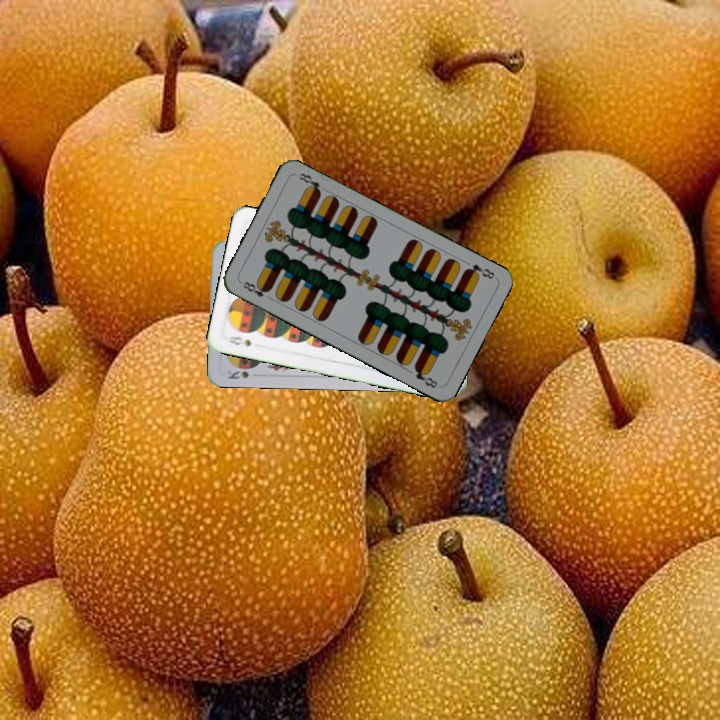E8: (237, 277, 272, 300), (461, 260, 497, 282)
S8: (224, 332, 254, 349)
SK: (224, 363, 258, 381)
